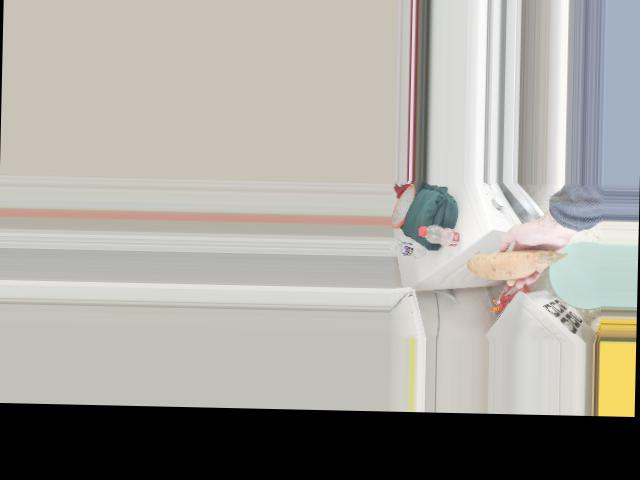sweet_potato: (468, 248, 553, 283)
